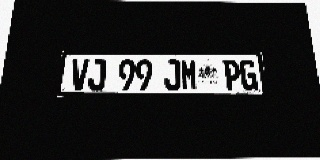9: (118, 59, 136, 90), (136, 59, 152, 90)
G: (239, 60, 258, 90)
J: (88, 59, 106, 90), (164, 59, 181, 90)
M: (181, 59, 198, 90)
P: (223, 60, 241, 90)
V: (70, 59, 89, 90)
